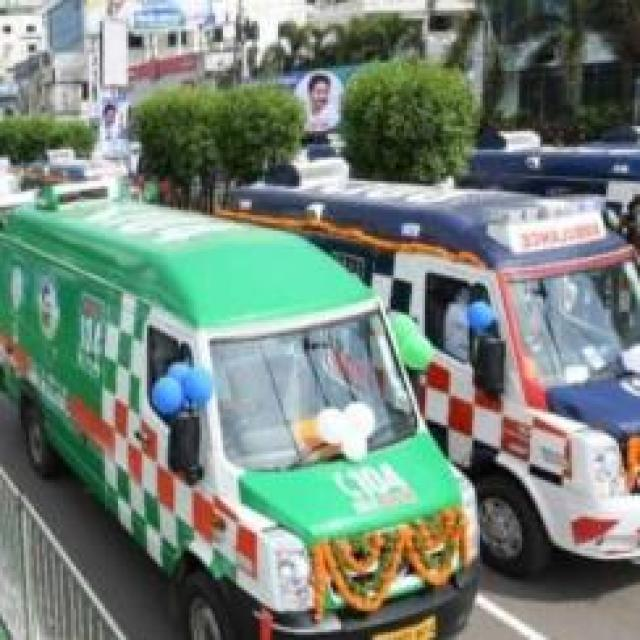Ambulance: (0, 149, 637, 637), (302, 504, 469, 624)
